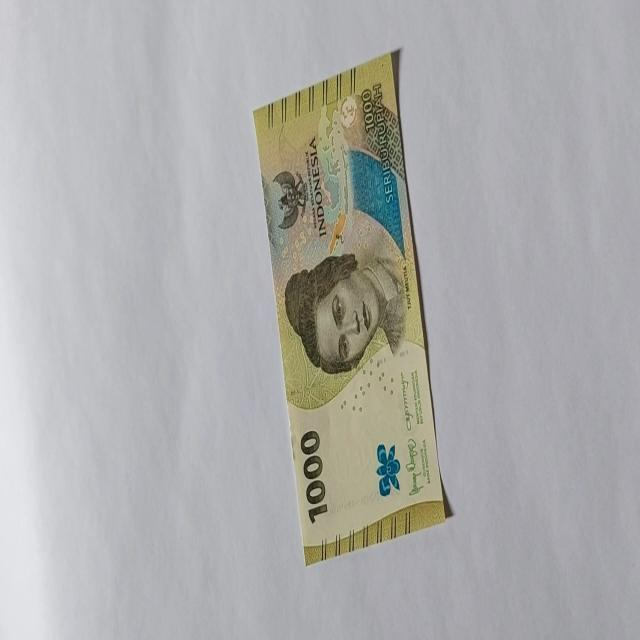seribu rupiah kertas: (252, 51, 448, 566)
